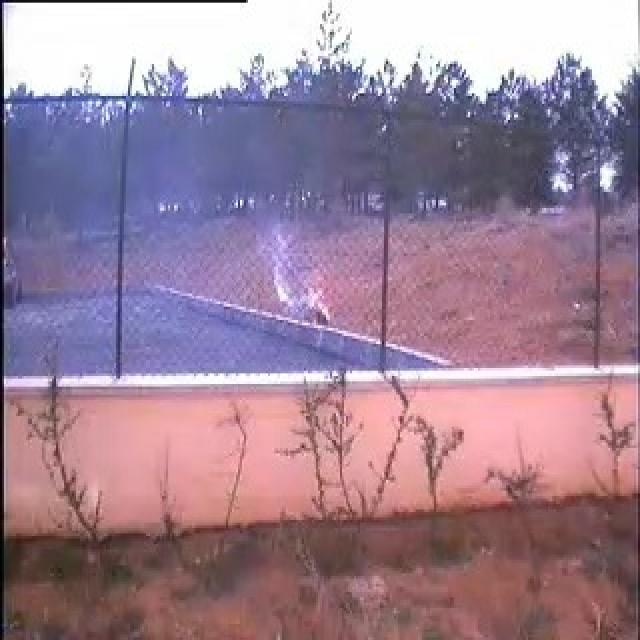smoke: (128, 166, 312, 335)
